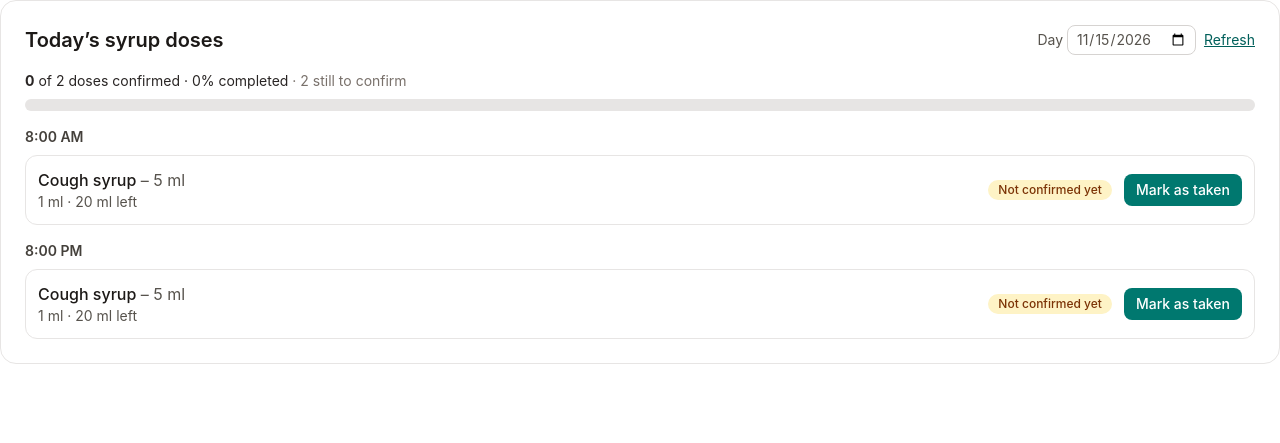
syrup dose list (DoseTracker) › keeps the dose "not confirmed" and shows the server message when the backend refuses
The width and height of the screenshot is (1280, 443).
Click the 1st button "Mark as taken". click: click(1183, 190)
box: x1=1124 y1=174 x2=1242 y2=206
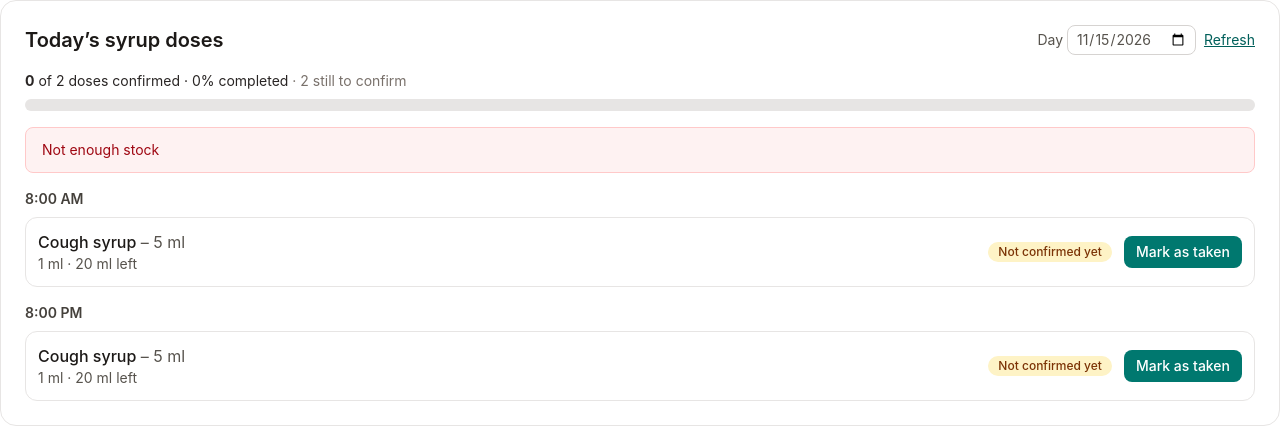
Check: the text "Not confirmed yet" is shown 2 times, box x1=988 y1=242 x2=1112 y2=262; x1=988 y1=356 x2=1112 y2=376
Check: the message reads "Not enough stock", box x1=42 y1=141 x2=159 y2=158
